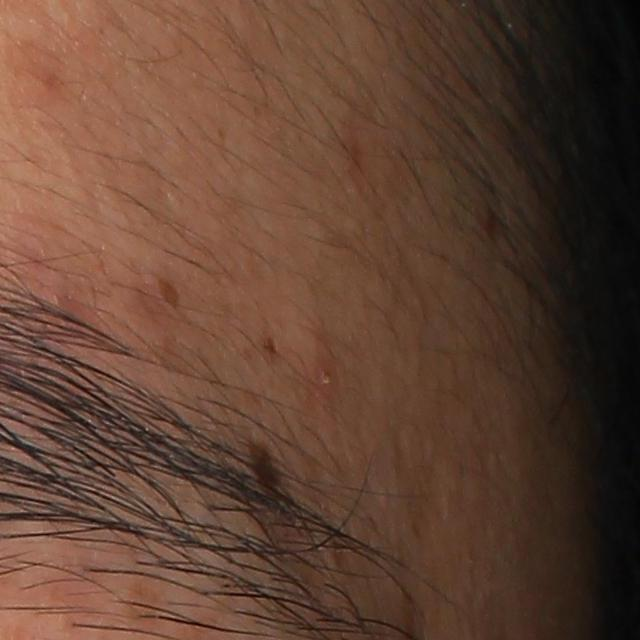nevus: (246, 439, 280, 503)
